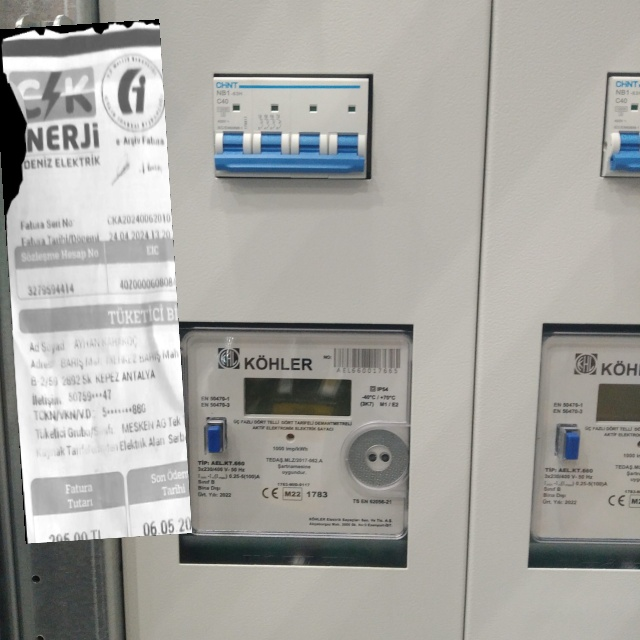electricity-bill: (0, 19, 192, 544)
